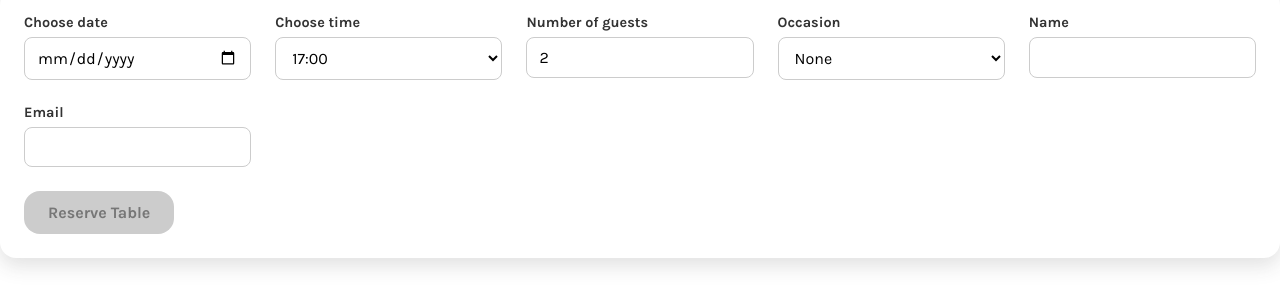
Test: client-side (React) form validation › submit button becomes enabled once every field is valid
Type "2026-09-01" into the date field labelled "Choose date" at coordinates (138, 58), box x1=24 y1=37 x2=251 y2=80
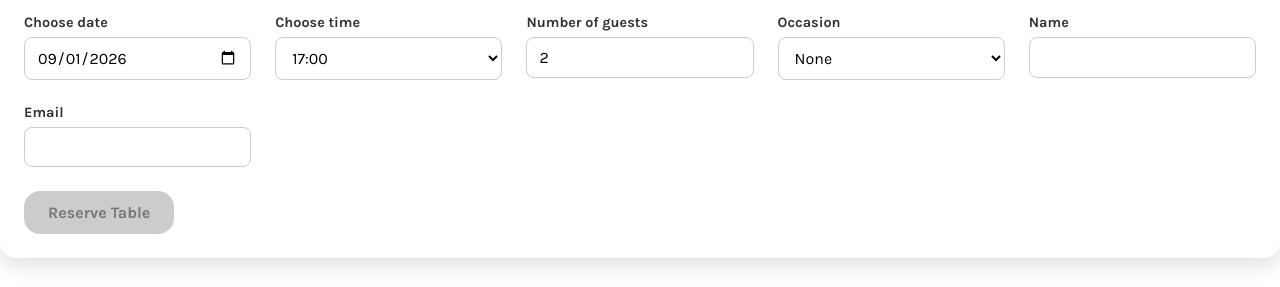
Replace the text in the number field labelled "Number of guests" with "4" at coordinates (640, 58), box x1=526 y1=37 x2=754 y2=78
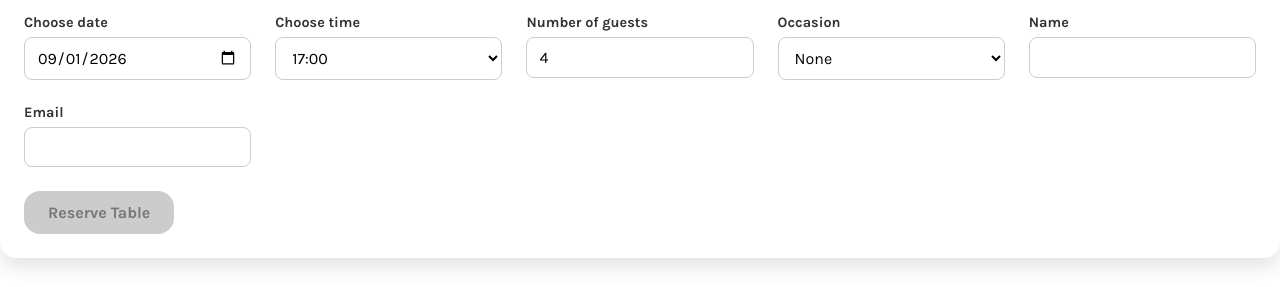
Type "Jane Doe" into the field labelled "Name" at coordinates (1142, 58), box x1=1029 y1=37 x2=1256 y2=78
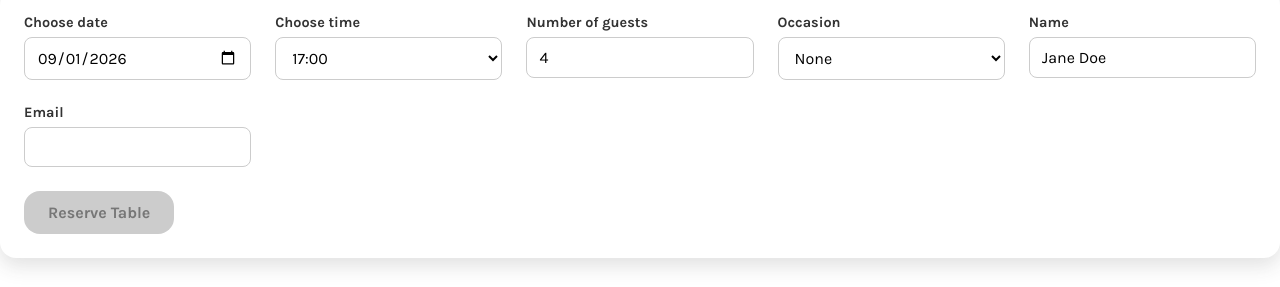
Type "jane@example.com" into the field labelled "Email" at coordinates (138, 147), box x1=24 y1=127 x2=251 y2=167
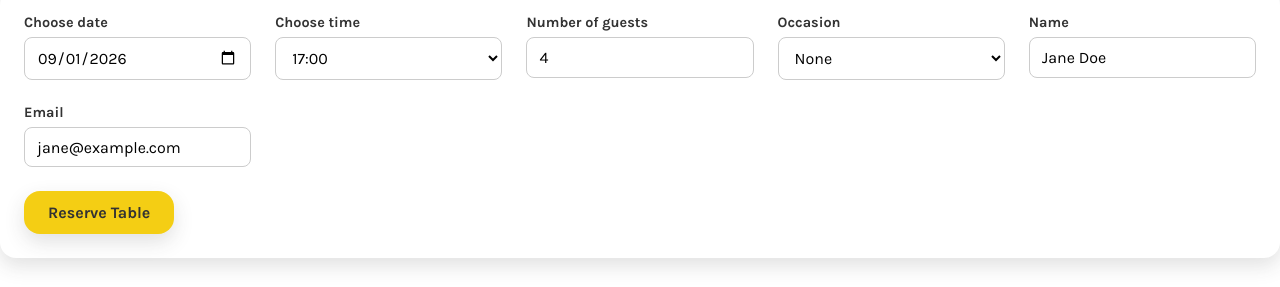
Result: the button "Reserve Table" is enabled at x1=24 y1=191 x2=174 y2=234
